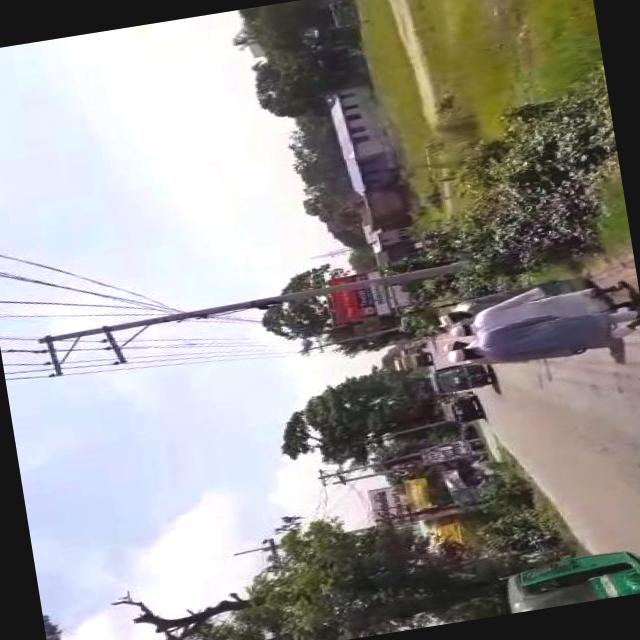car: (441, 392, 486, 429)
motorcycle: (508, 540, 640, 611), (426, 362, 489, 396)
truck: (390, 348, 430, 376)
